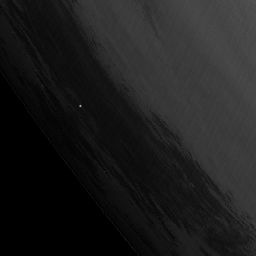Target: (77, 103, 82, 108)
